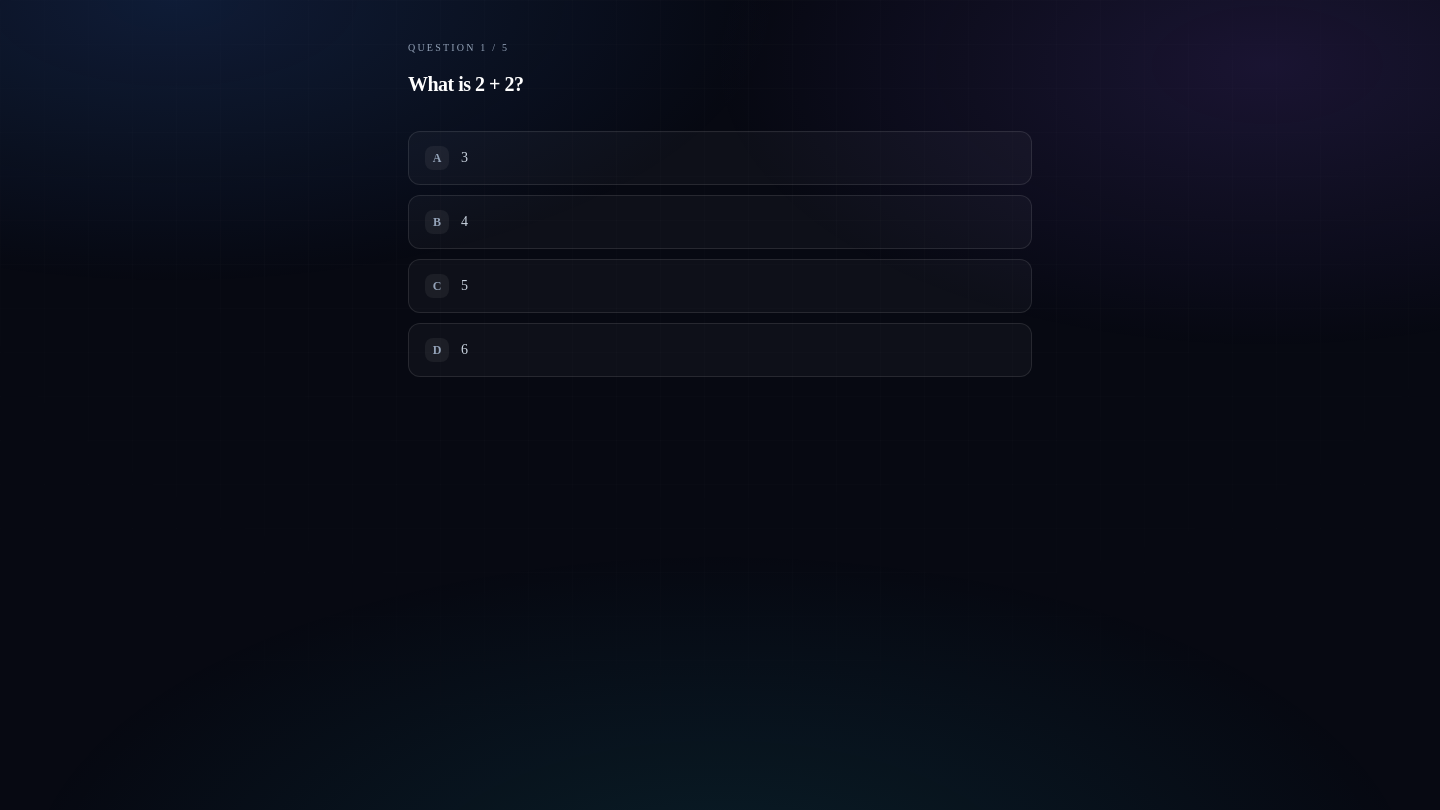
it: shows explanation after answering
This screenshot has width=1440, height=810.
Click the button "B 4" at (437, 222), box top-left (408, 194), bottom-right (1032, 248)
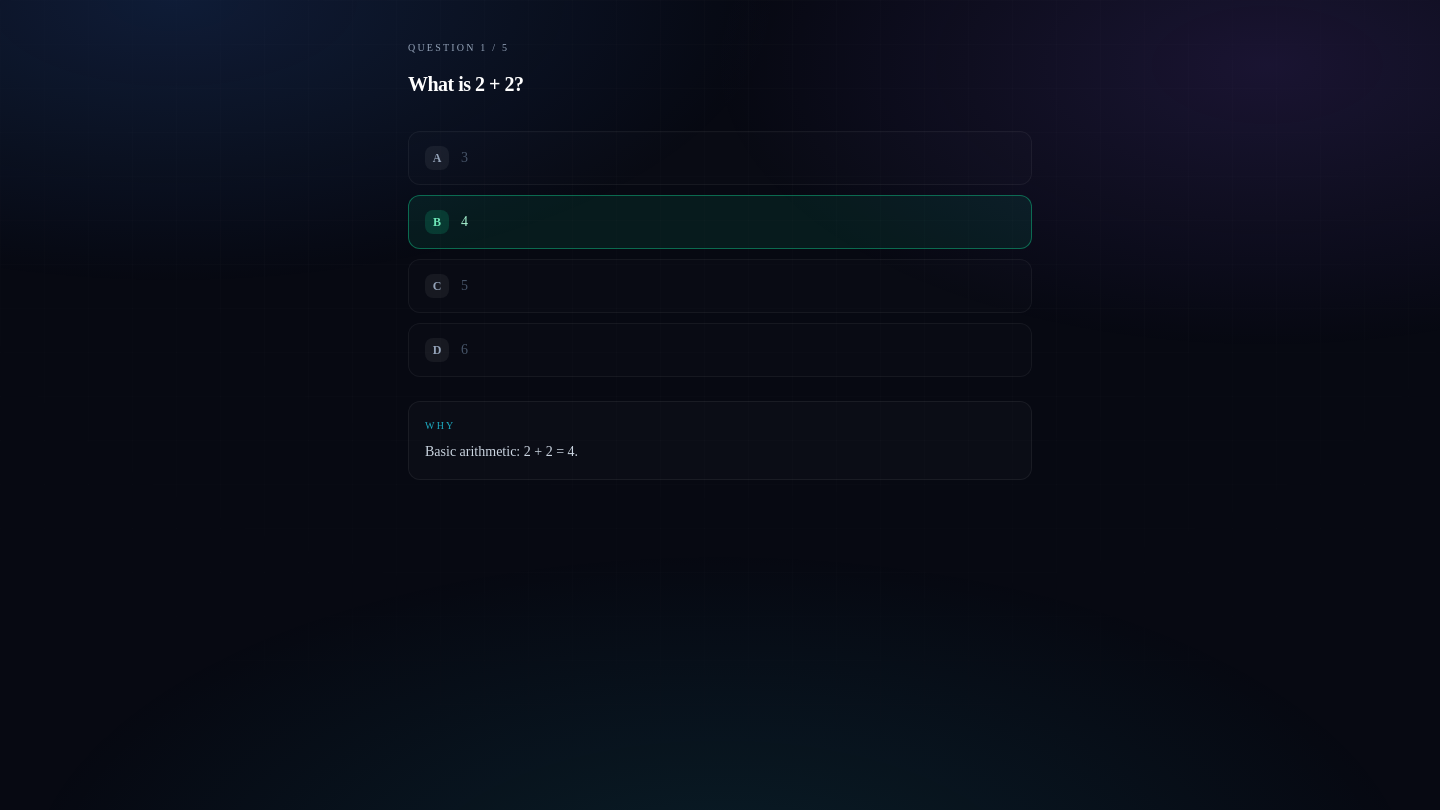
Check: the text "Basic arithmetic: 2 + 2 = 4." is shown, box top-left (425, 444), bottom-right (578, 458)
